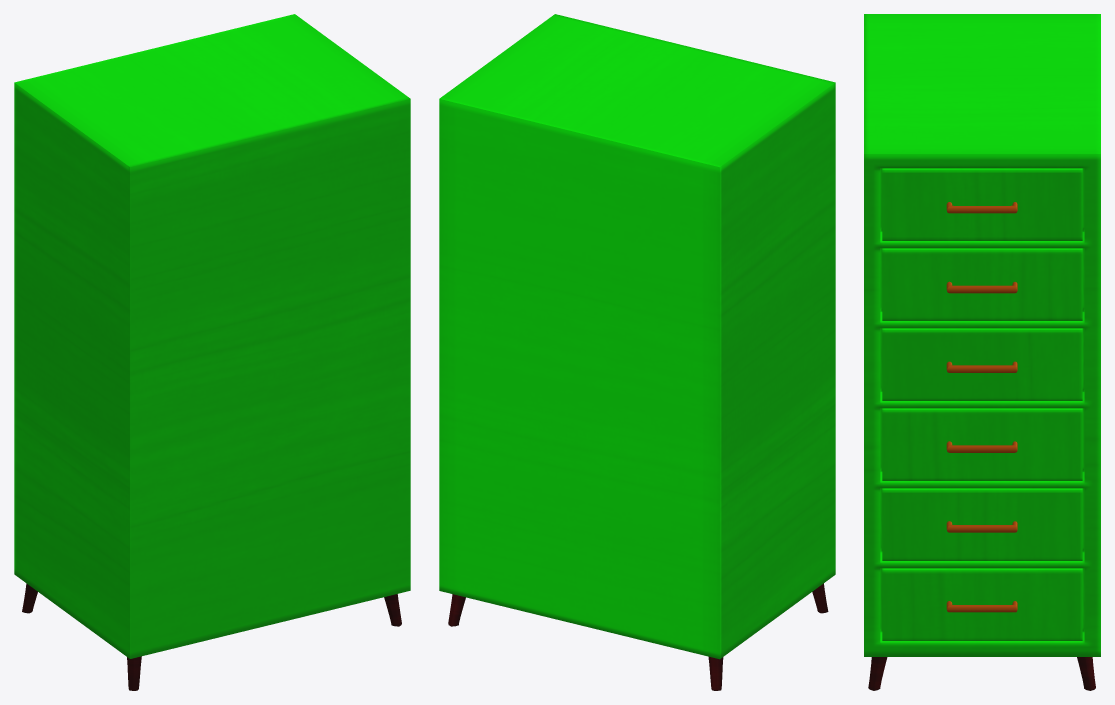
The model's file is drawer-small.glb.
3 views of the same model, side by side, from view 1: azimuth 30°, elevation 25°; view 2: azimuth 150°, elevation 25°; view 3: azimuth 270°, elevation 25° (orthographic). The views are drawn at different scales.
Parts seen in each view (by area): view 1: room1_dresser_small; view 2: room1_dresser_small; view 3: room1_dresser_small.
Boxes of the visible parts, x1,y1,x2,y2 form: room1_dresser_small: (14, 14, 410, 690); room1_dresser_small: (439, 14, 835, 690); room1_dresser_small: (864, 14, 1100, 690).
Size of the model in its own units: 1.43 by 2.47 by 0.9839.
Materials: 1 (1 with a texture image).
